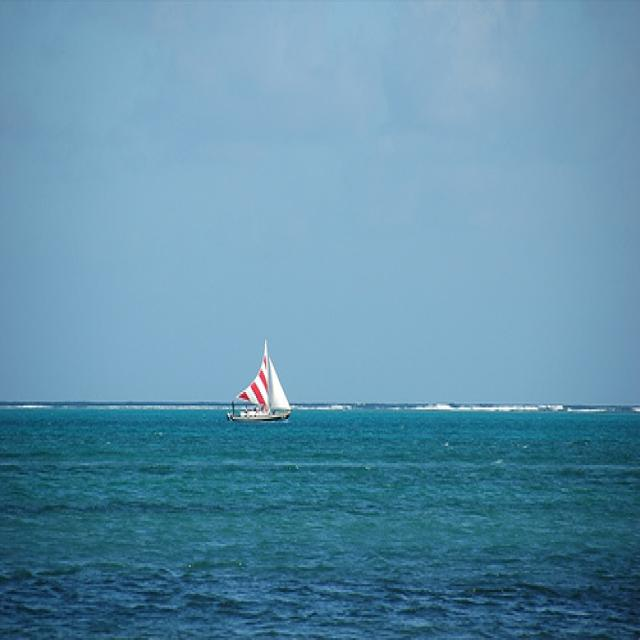boat: (228, 337, 292, 424)
